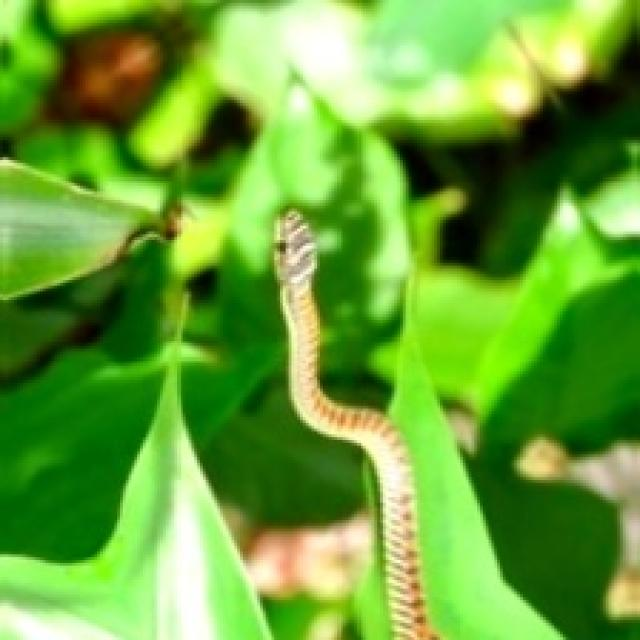paradise tree snake: (274, 209, 557, 637), (274, 209, 437, 637)
